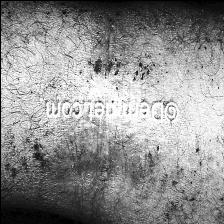Non-Cancerous Skin Condition: (0, 10, 172, 91), (182, 27, 224, 219), (0, 146, 91, 200)
